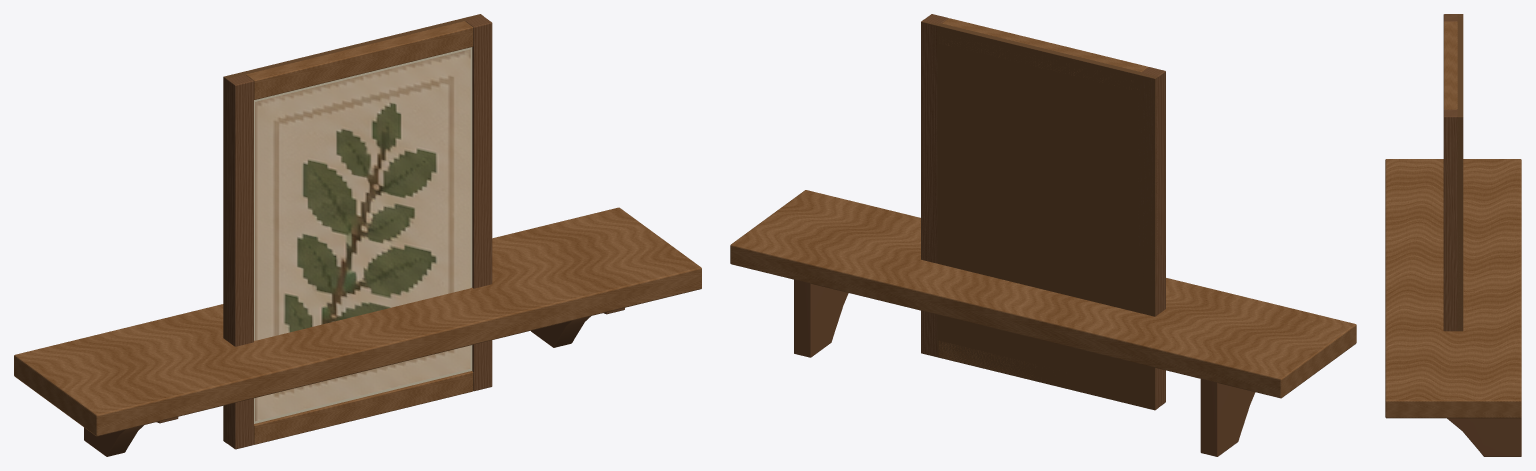
File: objetos.glb
The picture shows the model from 3 angles, left to right: view 1: azimuth 30°, elevation 25°; view 2: azimuth 150°, elevation 25°; view 3: azimuth 270°, elevation 25°; orthographic projection. The views are drawn at different scales.
Parts seen in each view (by area): view 1: Botanica original, Prancha; view 2: Botanica original, Prancha; view 3: Prancha, Botanica original.
Part boxes in pixels (box(x1,y1,x2,y2)): Botanica original: box(223, 14, 492, 449); Prancha: box(14, 207, 701, 456); Botanica original: box(921, 14, 1165, 410); Prancha: box(730, 190, 1356, 456); Prancha: box(1385, 159, 1521, 456); Botanica original: box(1443, 14, 1463, 331).
Size of the model in its own units: 1.6 by 0.92 by 0.38.
5 materials, 3 textured.
